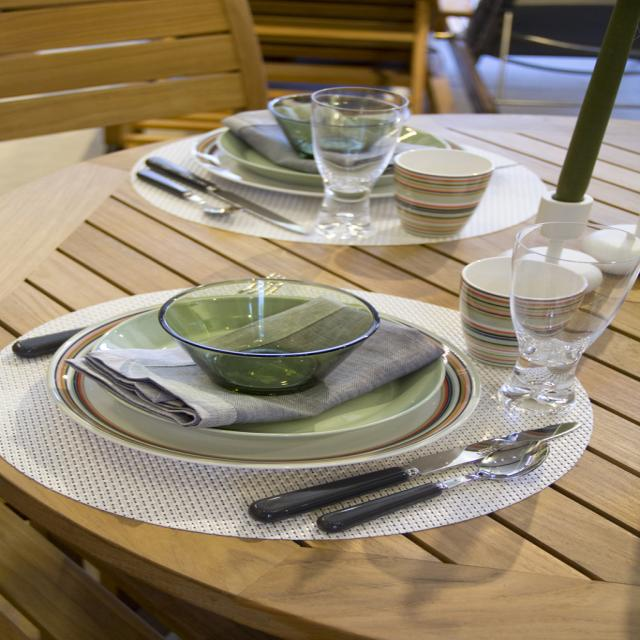non-organic waste: (0, 280, 573, 517), (114, 93, 544, 275), (120, 256, 453, 467)
